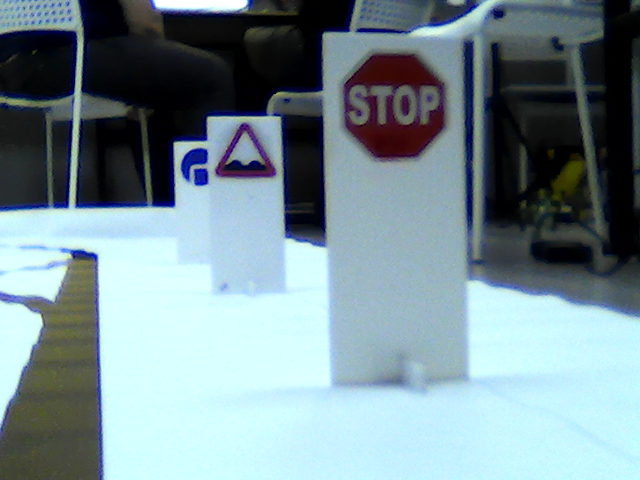Nerov: (212, 122, 282, 182)
Stop: (339, 47, 449, 161)
